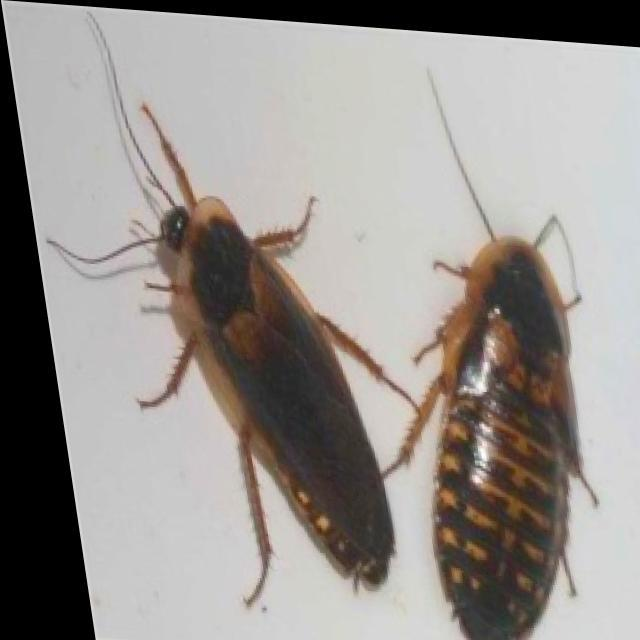cockroach: (85, 87, 407, 628), (397, 179, 609, 640)
